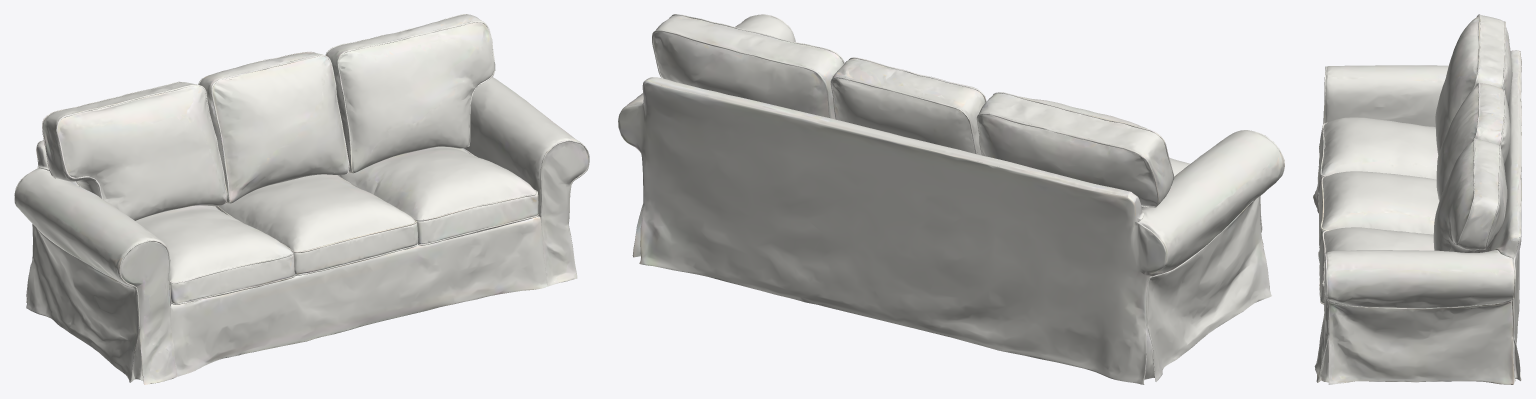
3 renders of one model, left to right at view 1: azimuth 30°, elevation 25°; view 2: azimuth 150°, elevation 25°; view 3: azimuth 270°, elevation 25°, orthographic. The views are drawn at different scales.
Visible parts, largest first — view 1: Mesh_0; view 2: Mesh_0; view 3: Mesh_0.
Part boxes in pixels (x1,y1,x2,y2): Mesh_0: (14,14,589,384); Mesh_0: (618,14,1284,384); Mesh_0: (1313,14,1521,384).
Size of the model in its own units: 2.2 by 0.9119 by 0.9269.
Materials: 2 (2 with a texture image).
